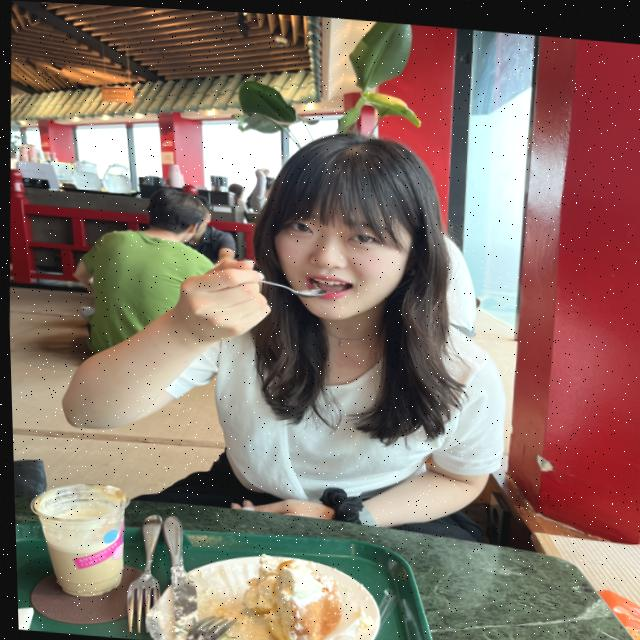eating-person: (46, 87, 526, 535)
